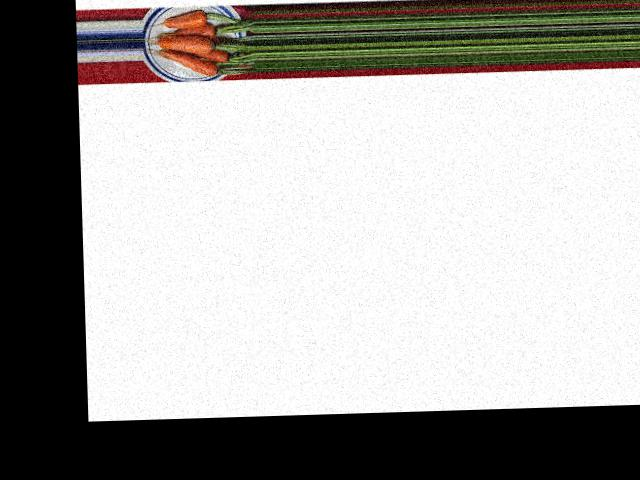carrot: (162, 7, 212, 31)
